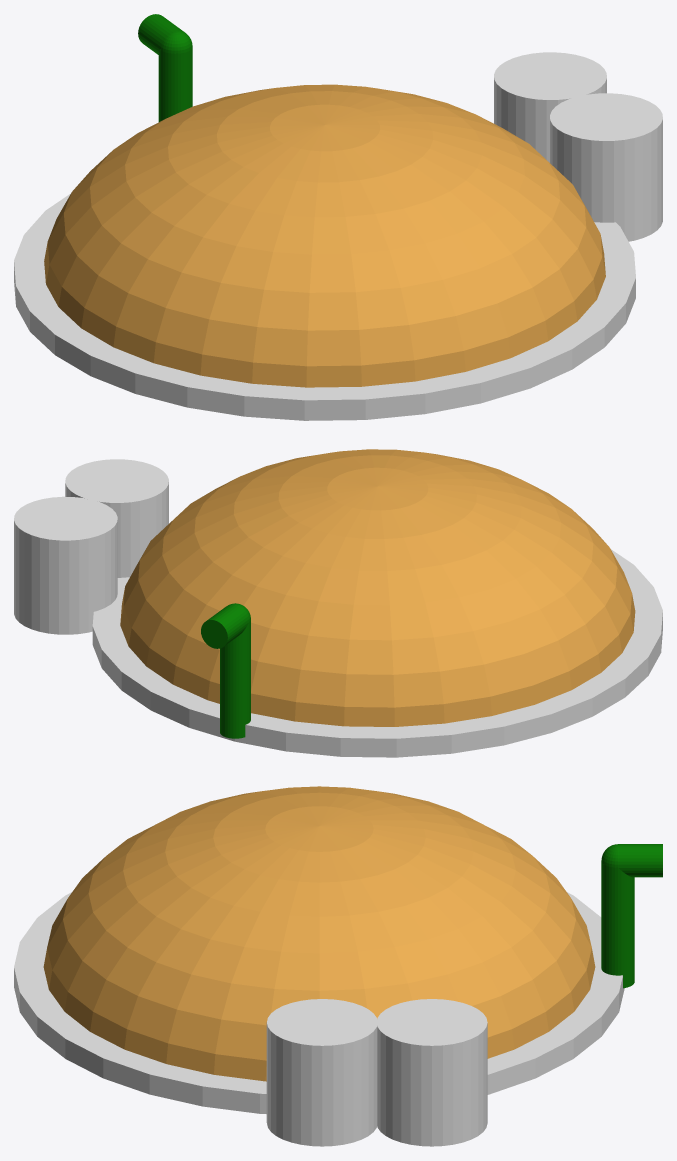
Rendered from colonyCentre.fbx.
3 views of the same model, one above another, from view 1: azimuth 30°, elevation 25°; view 2: azimuth 150°, elevation 25°; view 3: azimuth 270°, elevation 25° (orthographic). The views are drawn at different scales.
Visible parts, largest first — view 1: Dome, Cylinder, Cylinder.001, Cylinder.002, pipe, Cylinder.004, Sphere; view 2: Dome, Cylinder, Cylinder.002, Cylinder.001, pipe, Cylinder.004; view 3: Dome, Cylinder, Cylinder.001, Cylinder.002, pipe, Cylinder.004.
Part boxes in pixels (<box>): Dome: <box>44,84,605,387</box>; Cylinder: <box>14,193,635,420</box>; Cylinder.001: <box>550,93,662,241</box>; Cylinder.002: <box>494,52,606,162</box>; pipe: <box>158,48,192,121</box>; Cylinder.004: <box>138,14,183,54</box>; Sphere: <box>161,30,192,53</box>; Dome: <box>120,449,635,726</box>; Cylinder: <box>92,549,662,757</box>; Cylinder.002: <box>14,496,117,634</box>; Cylinder.001: <box>65,459,168,577</box>; pipe: <box>220,620,250,738</box>; Cylinder.004: <box>201,604,248,648</box>; Dome: <box>43,786,595,1081</box>; Cylinder: <box>14,892,624,1113</box>; Cylinder.001: <box>266,999,377,1146</box>; Cylinder.002: <box>377,999,487,1146</box>; pipe: <box>601,861,634,988</box>; Cylinder.004: <box>618,844,662,877</box>.
Bounding box in the file's own units: 1226 × 321 × 1168.
